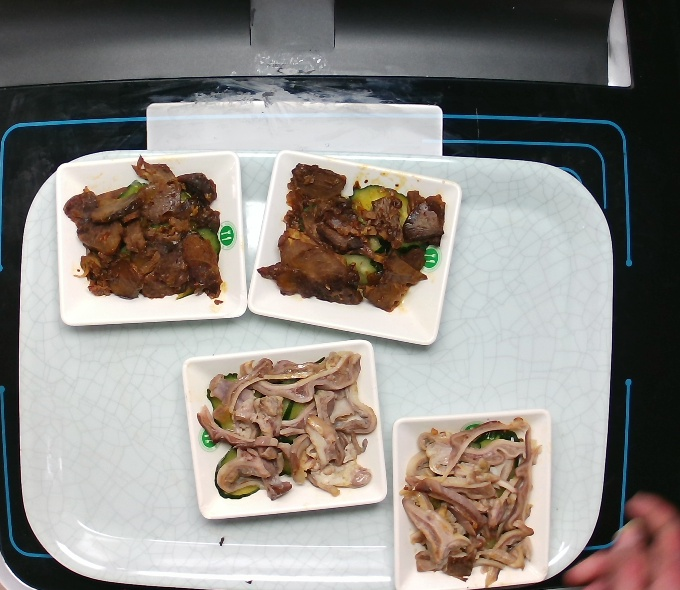wcq-JiangNiuRou: (250, 157, 449, 319), (58, 152, 233, 310)
wcq-ZhuDu: (193, 346, 379, 506), (396, 412, 544, 590)
